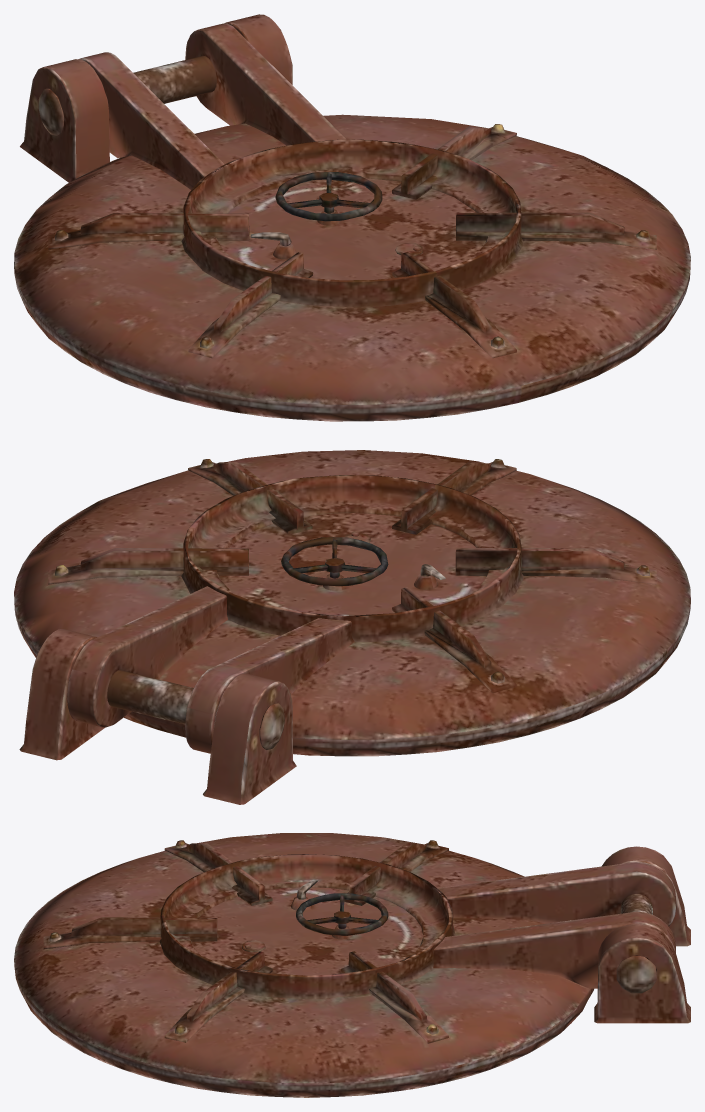
File: vertical_hatch_cap.glb
The picture shows the model from 3 angles, top to bottom: view 1: azimuth 30°, elevation 25°; view 2: azimuth 150°, elevation 25°; view 3: azimuth 270°, elevation 25°; orthographic projection. The views are drawn at different scales.
Visible parts, largest first — view 1: hatch_tube_cap_LOD0; view 2: hatch_tube_cap_LOD0; view 3: hatch_tube_cap_LOD0.
Boxes of the visible parts, x1,y1,x2,y2 form: hatch_tube_cap_LOD0: [14, 14, 690, 421]; hatch_tube_cap_LOD0: [14, 450, 690, 804]; hatch_tube_cap_LOD0: [14, 833, 690, 1097].
Bounding box in the file's own units: 2.24 × 0.3585 × 2.59.
1 material, 1 textured.
